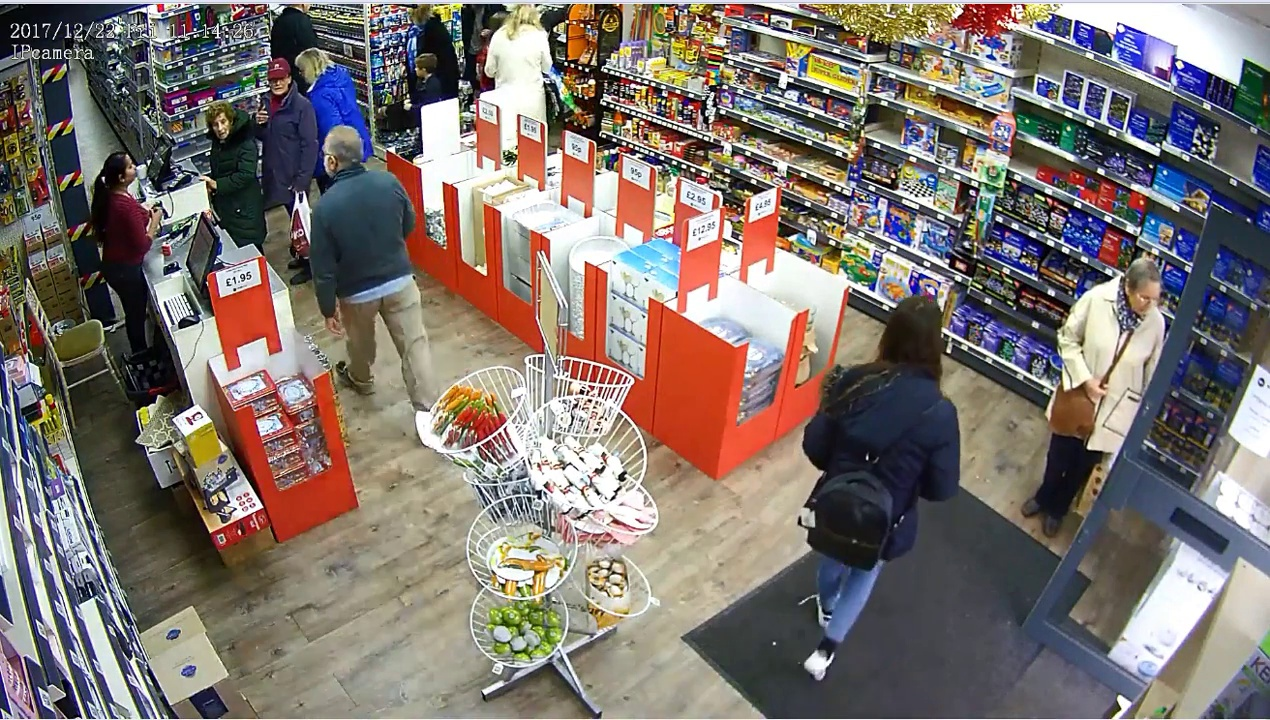face: (1130, 278, 1160, 322), (203, 112, 233, 143), (114, 155, 140, 183), (269, 67, 290, 97)
